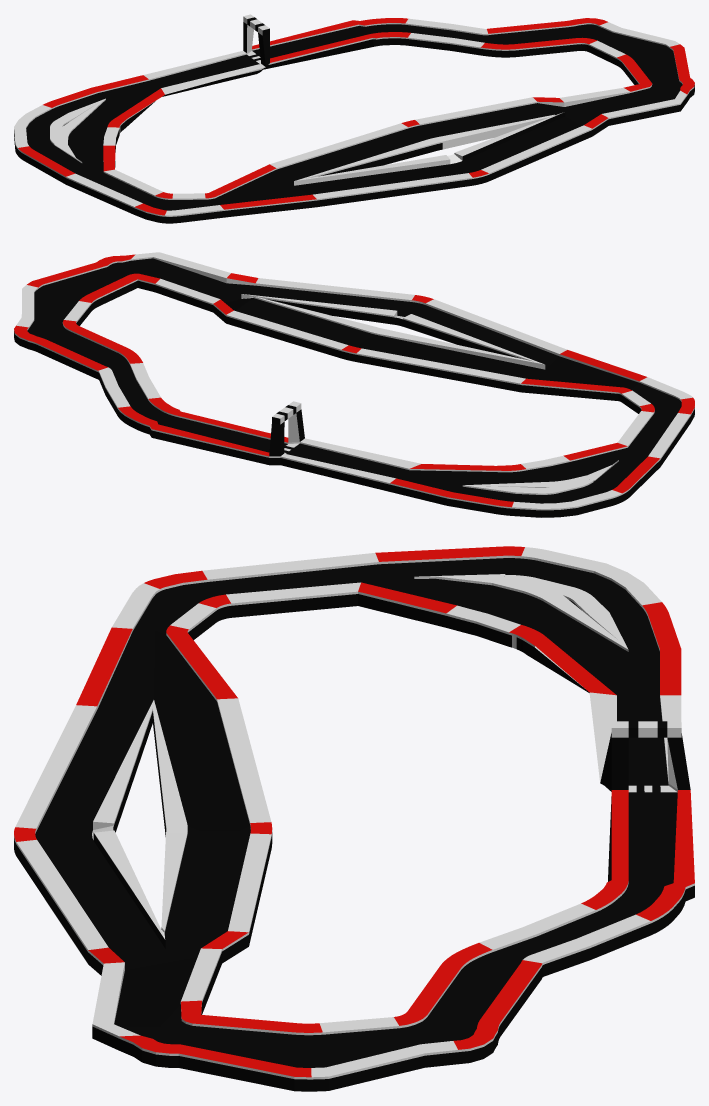
The model's file is racetrack_part_Final.fbx.
3 renders of one model, top to bottom at view 1: azimuth 30°, elevation 25°; view 2: azimuth 150°, elevation 25°; view 3: azimuth 270°, elevation 25°, orthographic. The views are drawn at different scales.
Parts seen in each view (by area): view 1: RaceTrack; view 2: RaceTrack; view 3: RaceTrack.
Boxes of the visible parts, left/top/right/bottom form: RaceTrack: left=14, top=14, right=694, bottom=223; RaceTrack: left=14, top=252, right=694, bottom=517; RaceTrack: left=14, top=546, right=694, bottom=1091.
Size of the model in its own units: 24879 by 1772 by 13489.
